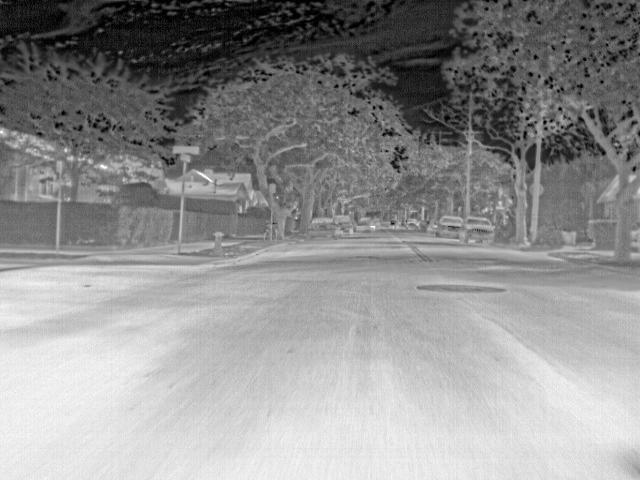car: (463, 216, 497, 244), (306, 218, 337, 240), (436, 214, 463, 237), (335, 214, 356, 234), (356, 216, 374, 232), (426, 218, 440, 236), (404, 220, 419, 232)
